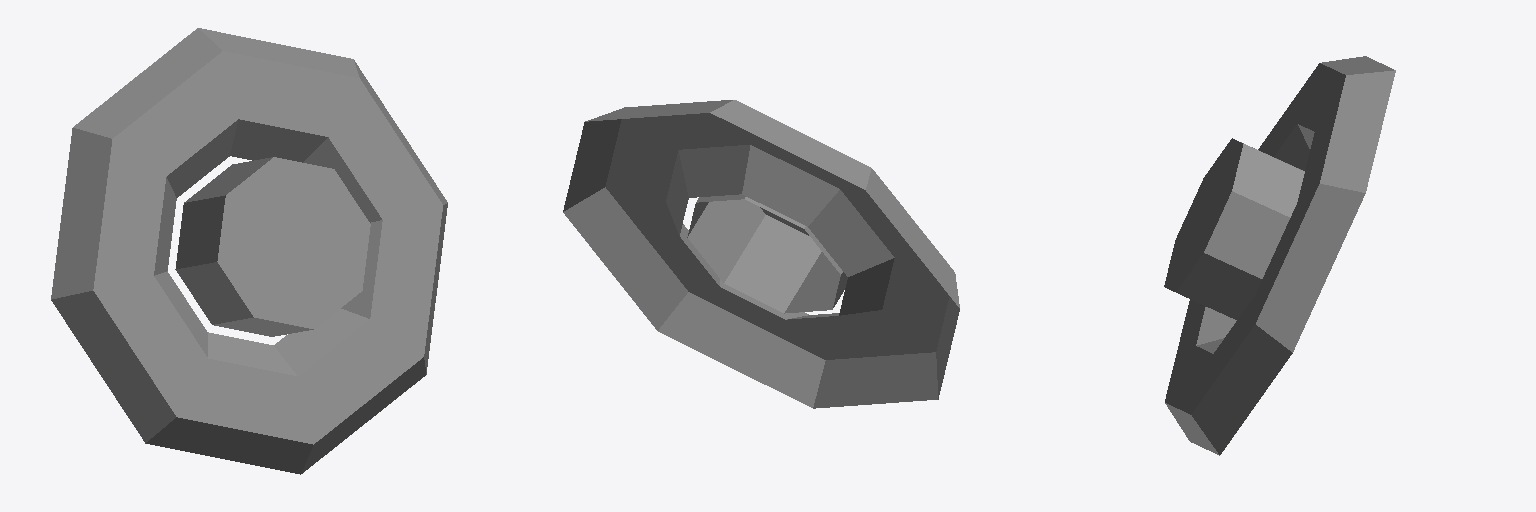
Rendered from Marcador_2.obj.
3 renders of one model, left to right at view 1: azimuth 30°, elevation 25°; view 2: azimuth 150°, elevation 25°; view 3: azimuth 270°, elevation 25°, orthographic.
Parts seen in each view (by area): view 1: Marcador2; view 2: Marcador2; view 3: Marcador2.
Boxes of the visible parts, <box> form: Marcador2: <box>51,28,447,474</box>; Marcador2: <box>563,100,959,408</box>; Marcador2: <box>1164,56,1395,455</box>.
Bounding box in the file's own units: 10.66 × 9.52 × 5.39.